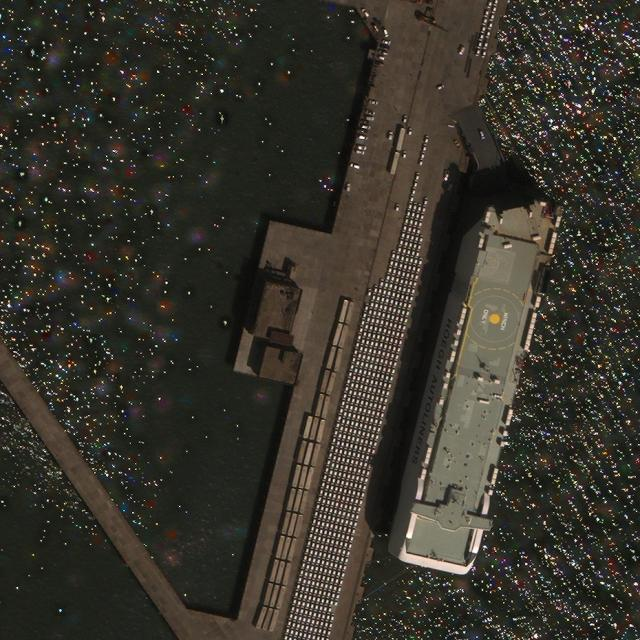RoRo: (380, 181, 566, 582)
